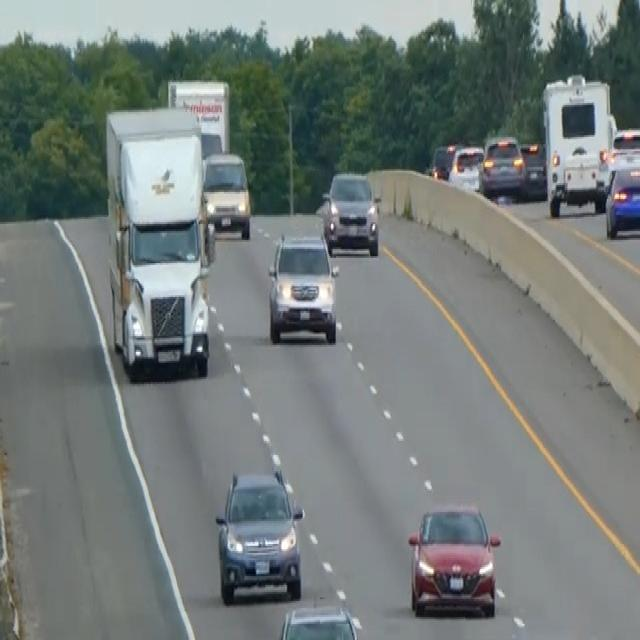car: (406, 499, 501, 618), (266, 229, 339, 345), (321, 167, 381, 256), (202, 148, 252, 238), (276, 601, 359, 638), (479, 134, 525, 198), (604, 158, 639, 238), (448, 142, 484, 192), (519, 137, 547, 197), (609, 124, 639, 169), (429, 140, 456, 180)
jeep: (214, 466, 305, 604)
lorry: (103, 103, 216, 379)
